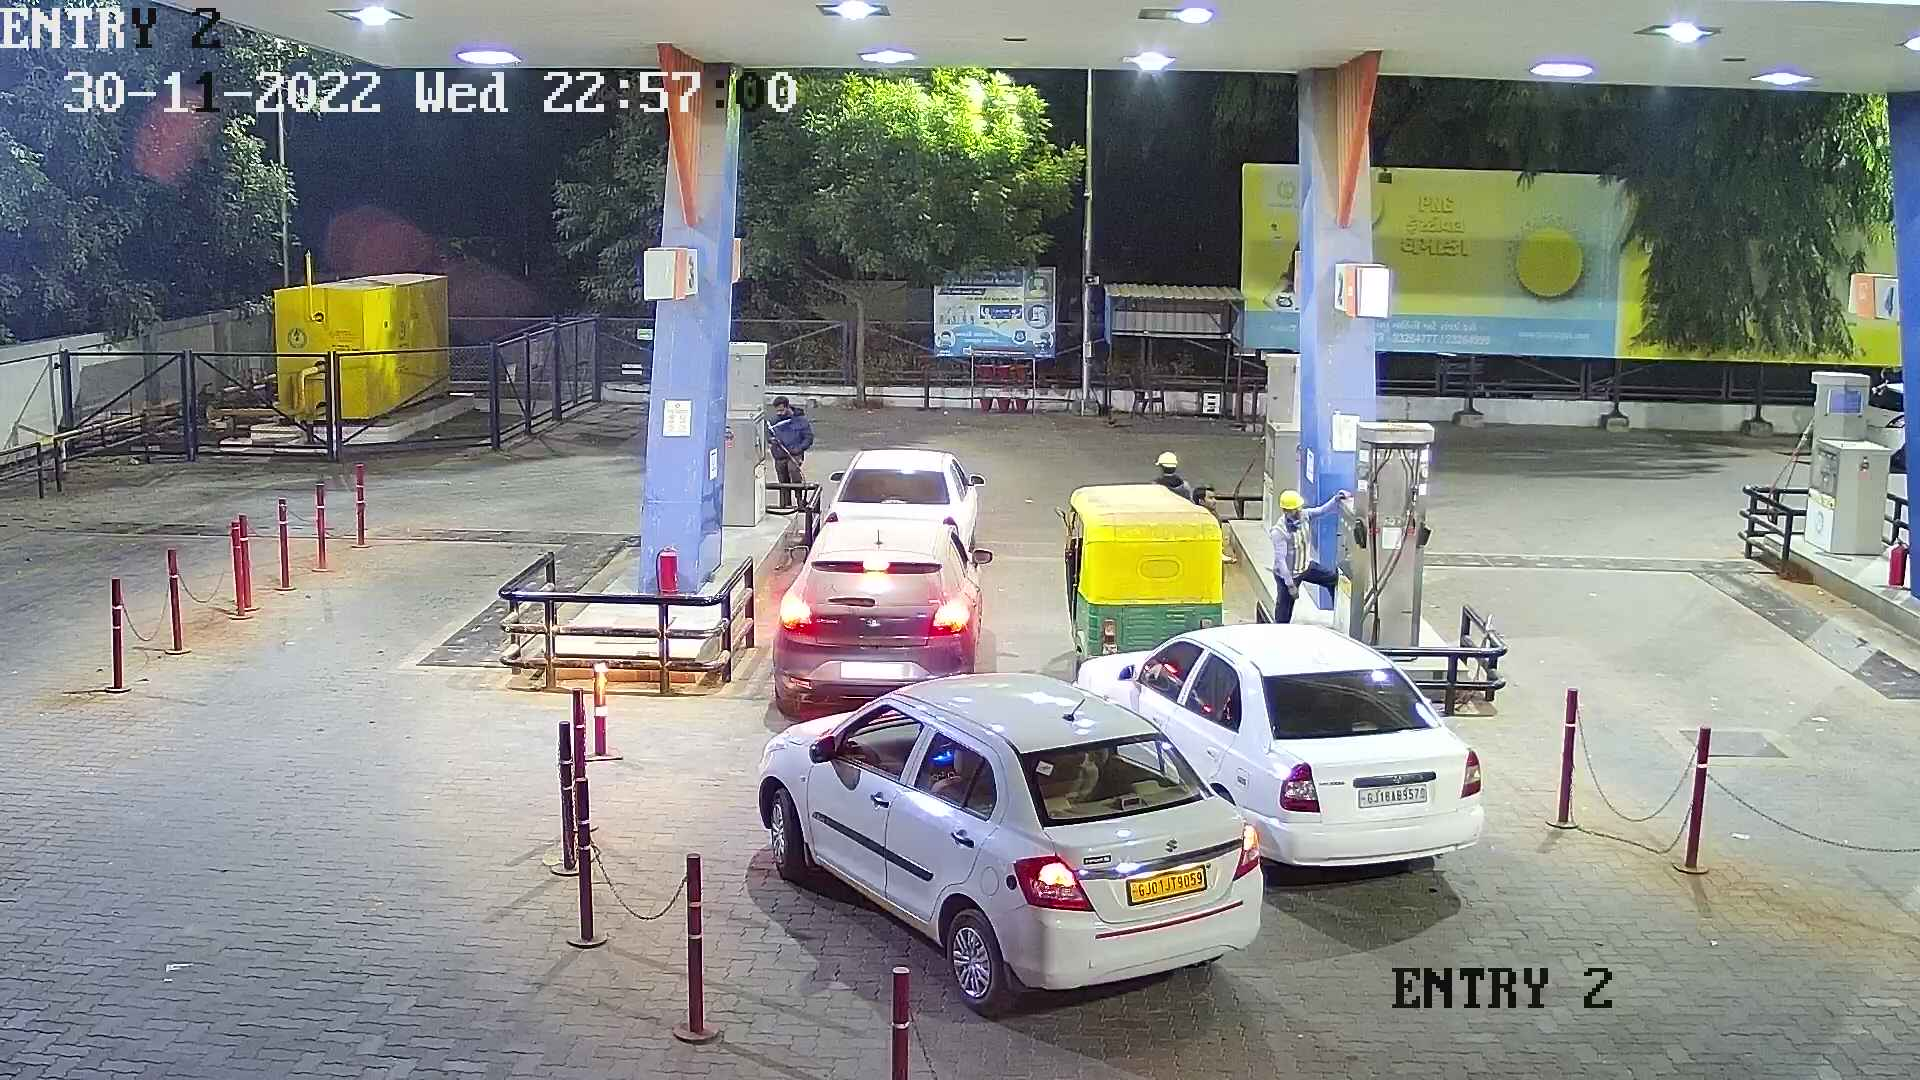Auto: (1048, 469, 1237, 678)
Car: (742, 650, 1276, 1025), (1062, 608, 1494, 891), (758, 500, 998, 725), (815, 440, 988, 564), (1851, 365, 1911, 476)
Others: (1258, 487, 1342, 633), (1134, 440, 1203, 506)
